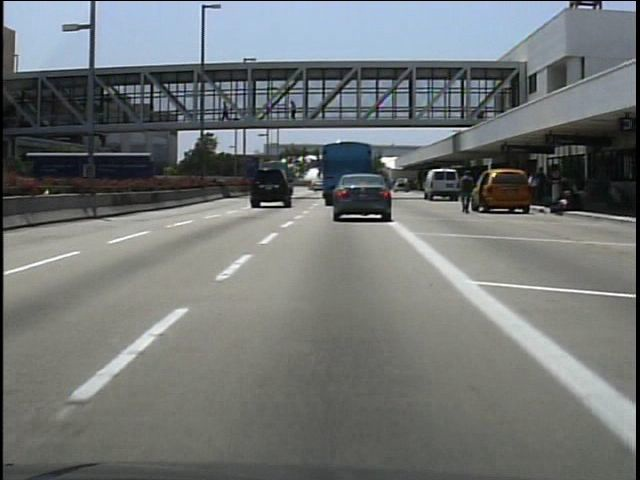person: (457, 168, 479, 220), (218, 97, 234, 123), (288, 100, 303, 127)
